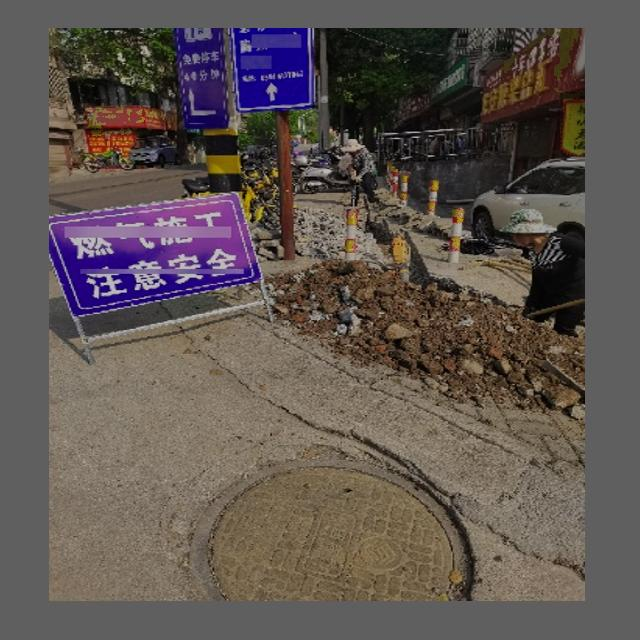good: (186, 458, 479, 601)
